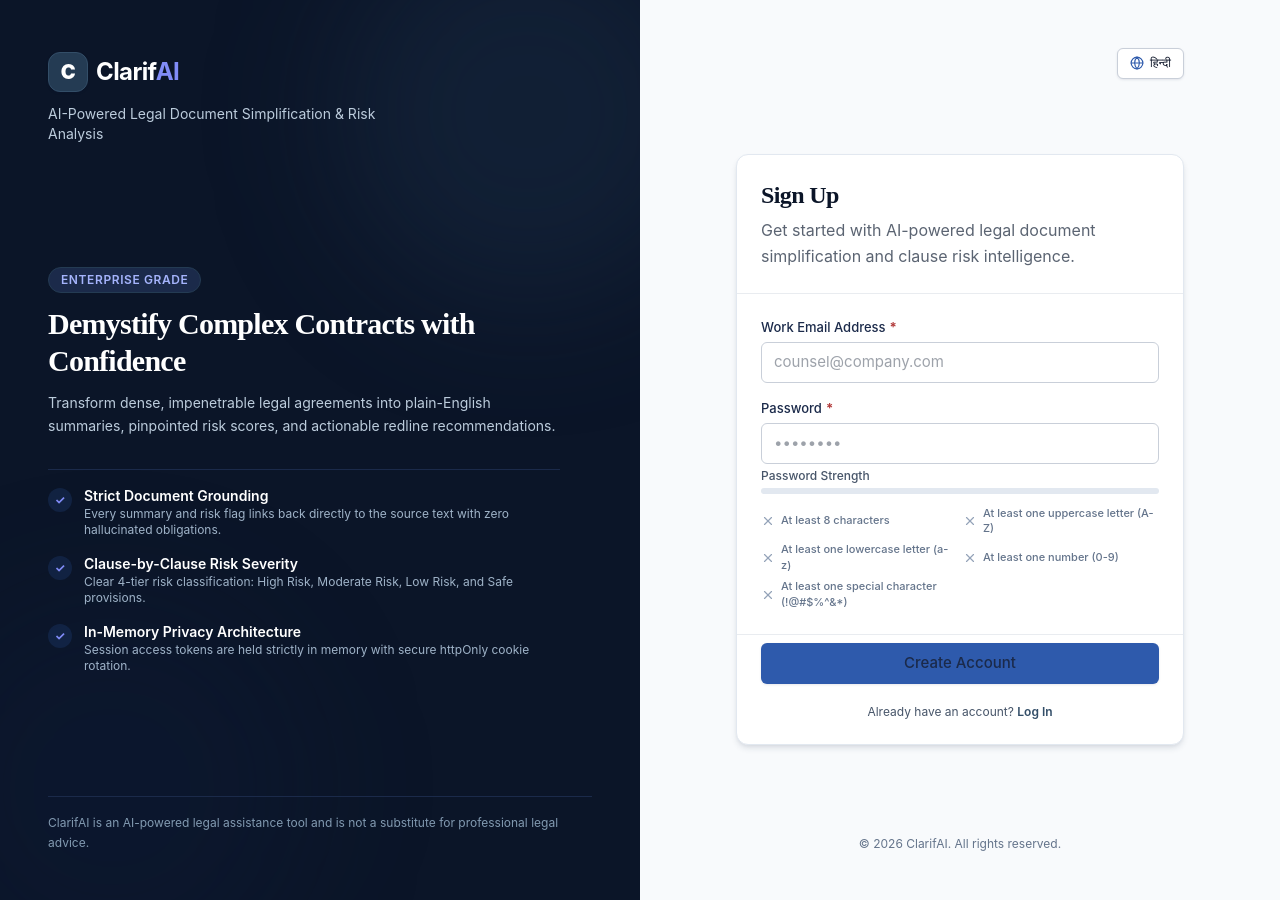
Scenario: Auth Pages (PRD Section 8.1, Ch. 10/11, Ch. 22.2/22.3, Ch. 31) › SignupPage › validates required fields and shows inline errors
Click the button "Create Account" at (960, 663), box [761,643,1159,684]
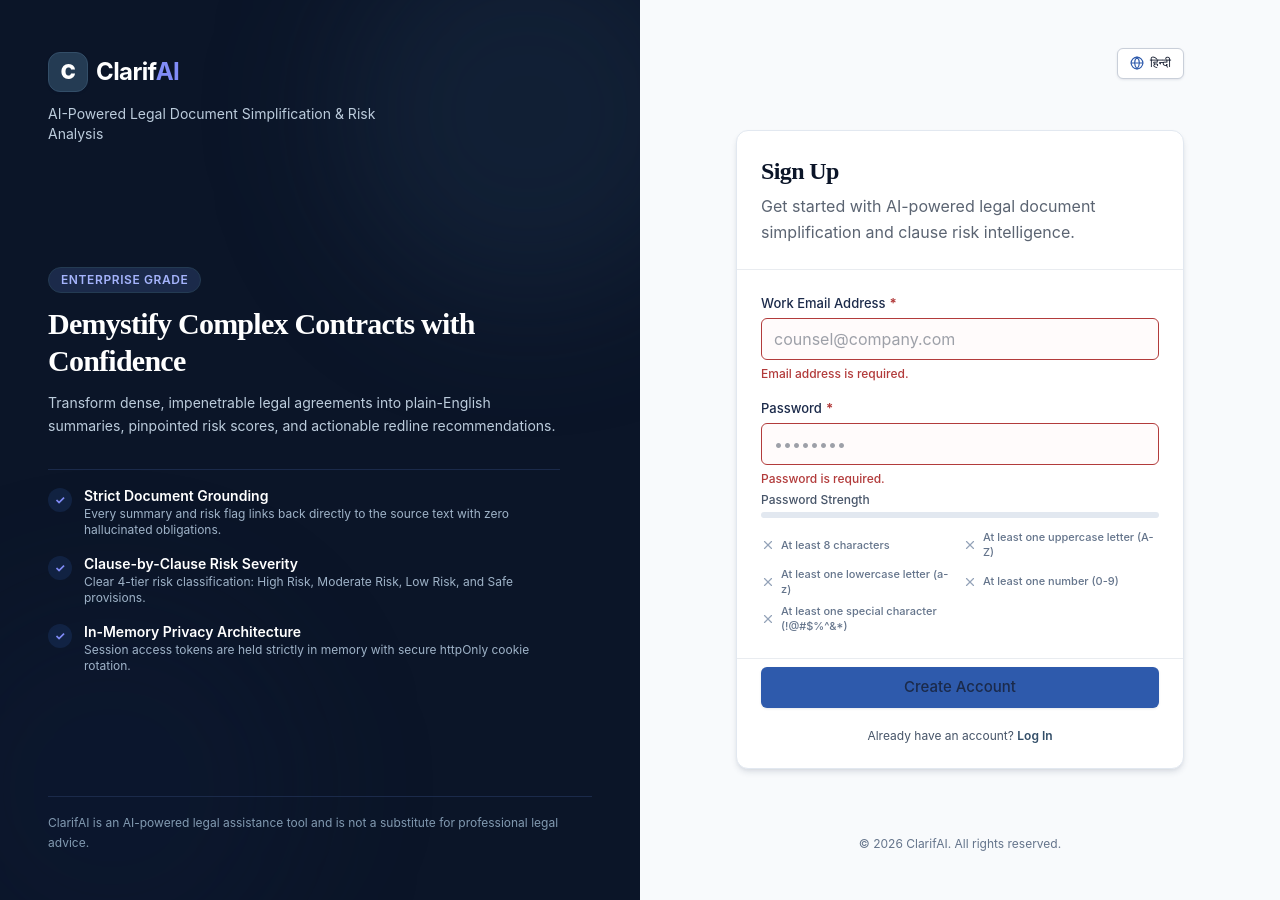
Check: the text "Email address is required." is shown, box [761,366,908,381]
Check: the text "Password is required." is shown, box [761,471,885,486]
